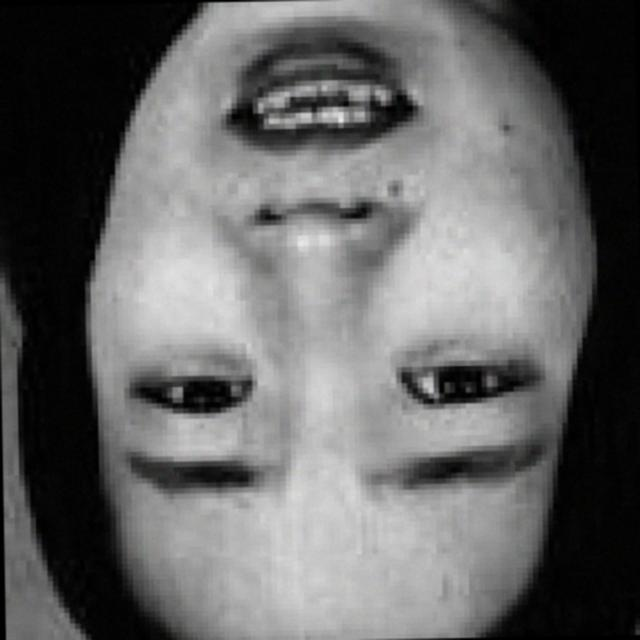fear: (84, 6, 568, 599)
